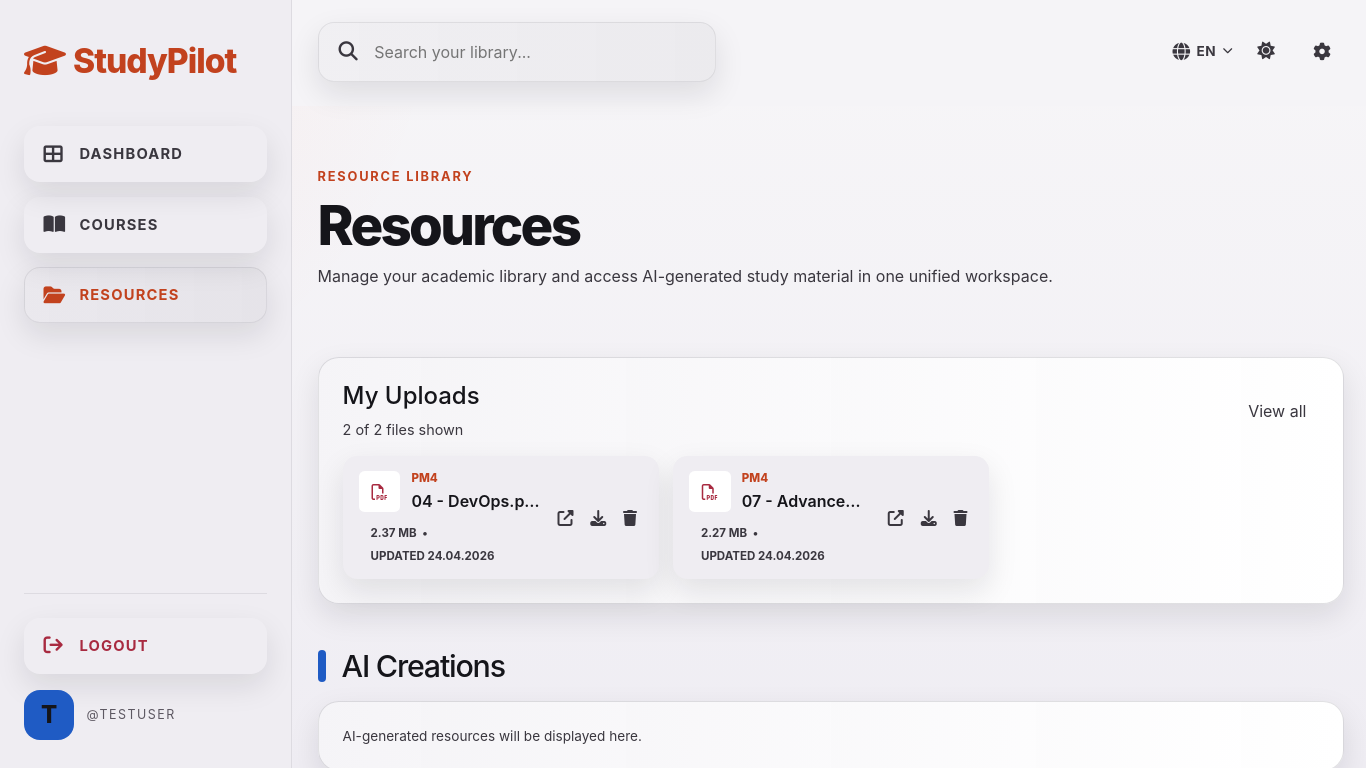
Test case: ResourcesPage › closes the delete confirmation modal when cancel is clicked
The image size is (1366, 768).
Click the button named "delete 07 - advanced scrum.pdf" at (960, 518), box 948,504 -> 973,531
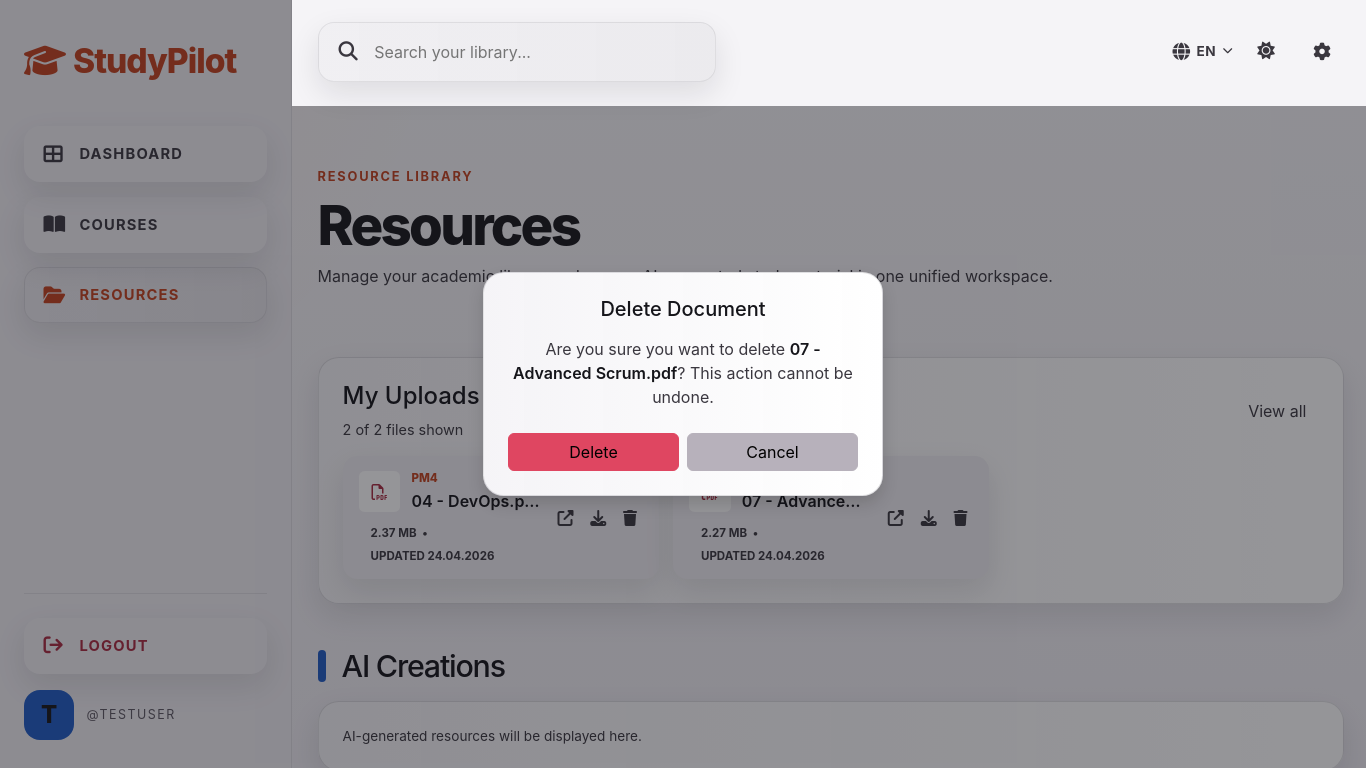
Click the button "Cancel" at (772, 452), box 687,433 -> 858,471
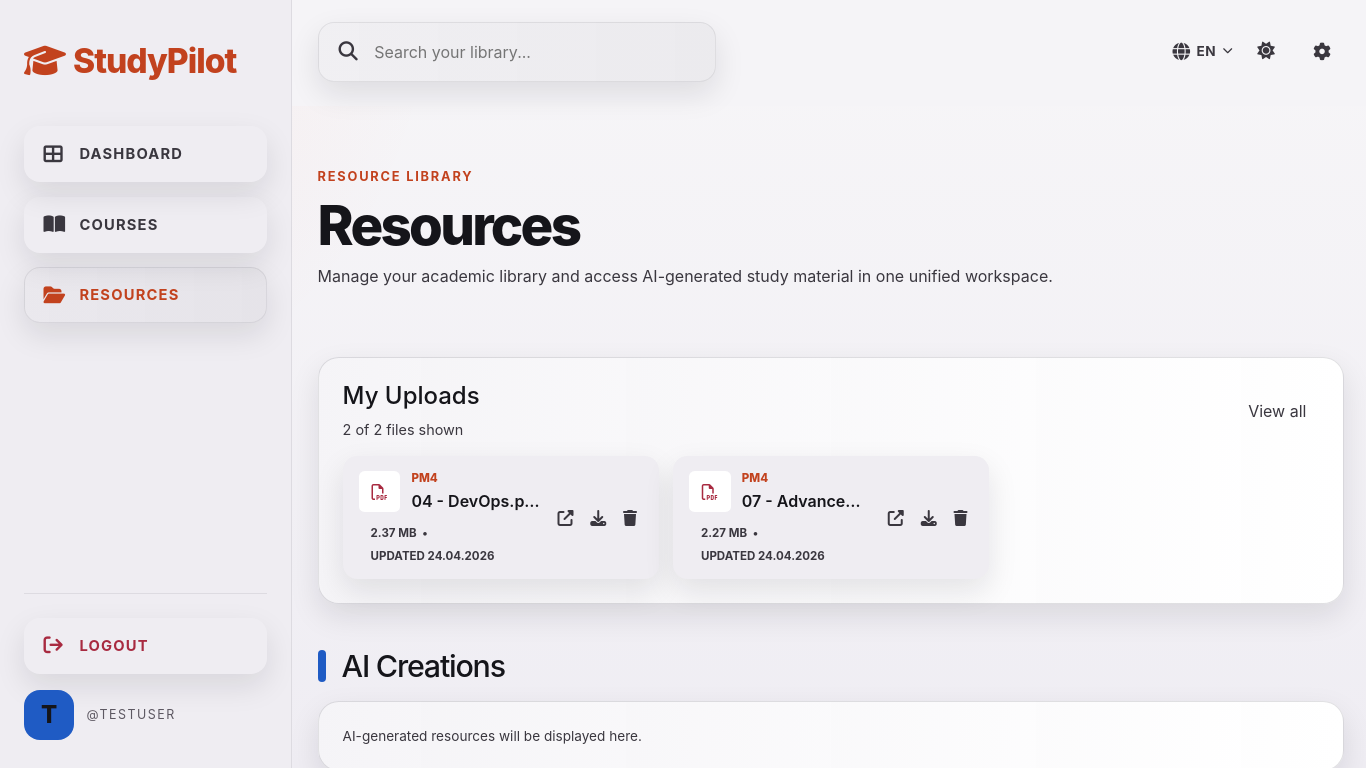
Check: the text "07 - Advanced Scrum.pdf" is shown, box 742,489 -> 870,513
Check: the heading "Delete Document" is gone
